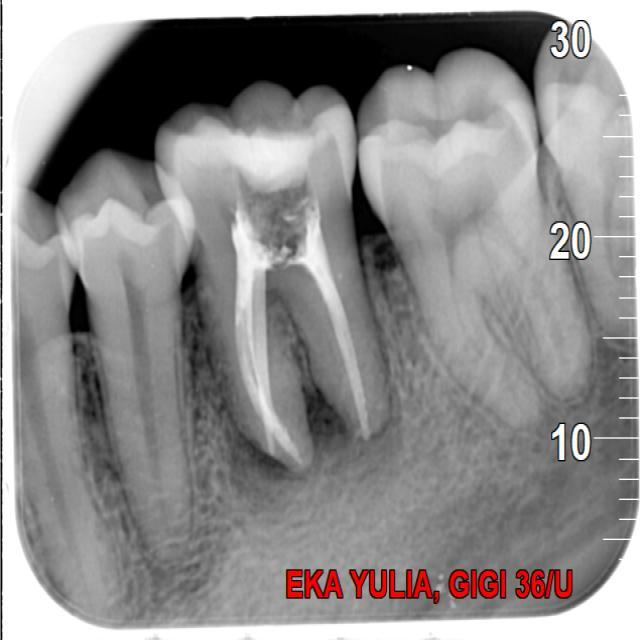individual-tooth-8tto: (353, 50, 608, 423), (152, 92, 388, 470), (52, 147, 196, 564)
